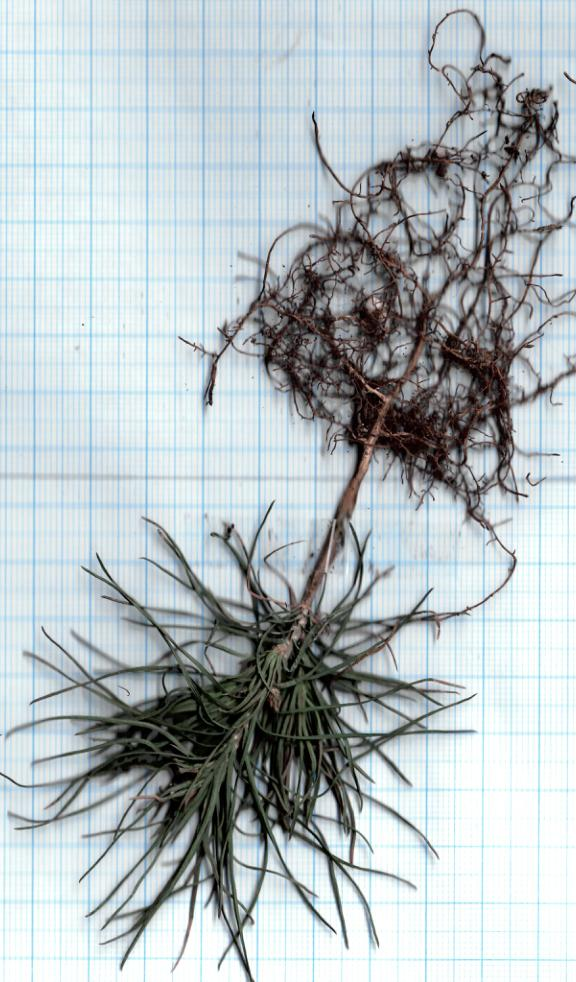flower: (0, 520, 487, 977)
root: (195, 37, 573, 499)
stem: (275, 446, 390, 647)
